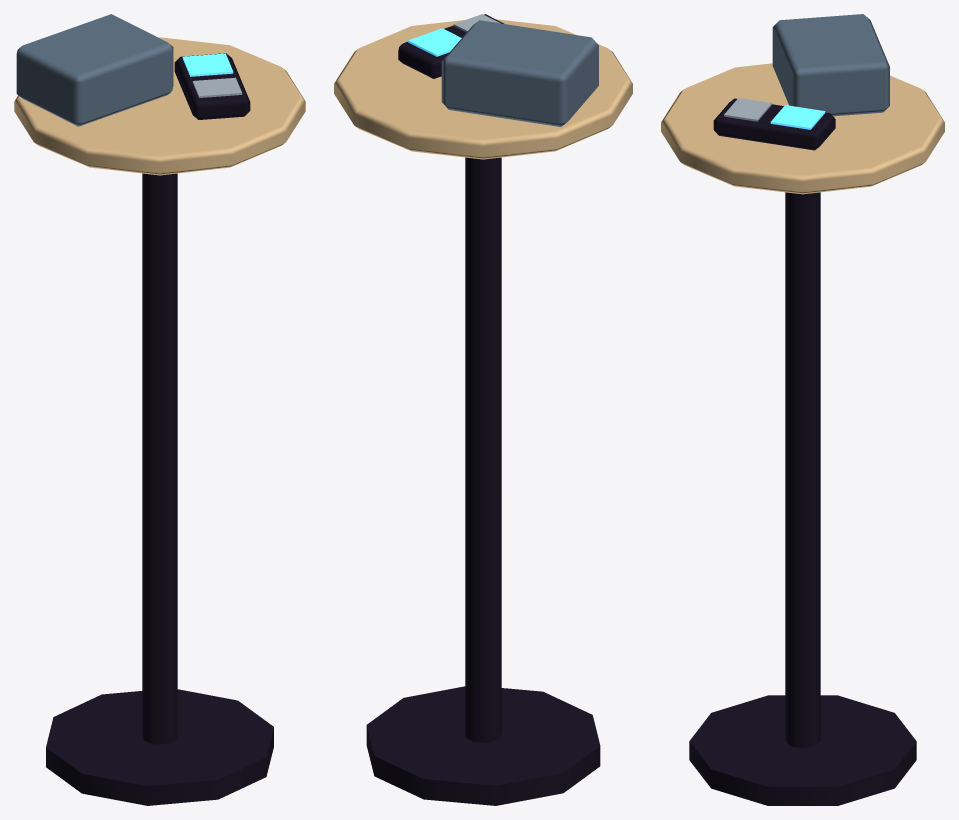
File: station_special_ausstattung_2_1.glb
3 renders of one model, left to right at view 1: azimuth 30°, elevation 25°; view 2: azimuth 150°, elevation 25°; view 3: azimuth 270°, elevation 25°, orthographic. The views are drawn at different scales.
Parts seen in each view (by area): view 1: station_special_ausstattung_2_1; view 2: station_special_ausstattung_2_1; view 3: station_special_ausstattung_2_1.
Boxes of the visible parts, left/top/right/bottom form: station_special_ausstattung_2_1: left=14, top=14, right=305, bottom=805; station_special_ausstattung_2_1: left=334, top=14, right=632, bottom=805; station_special_ausstattung_2_1: left=661, top=14, right=944, bottom=805.
Size of the model in its own units: 0.4 by 1.08 by 0.4.
